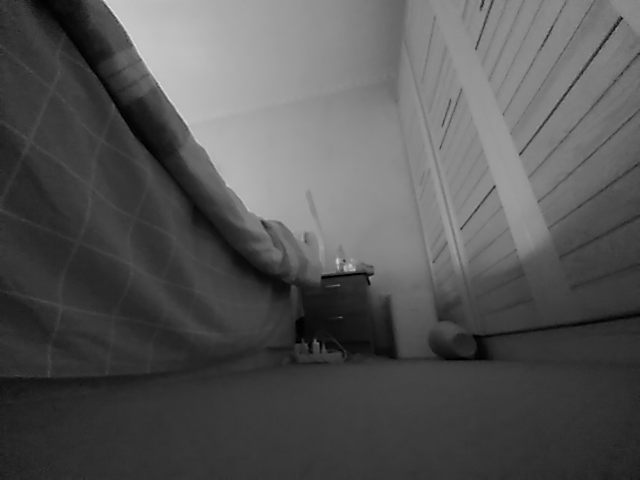power strip: (289, 334, 348, 368)
